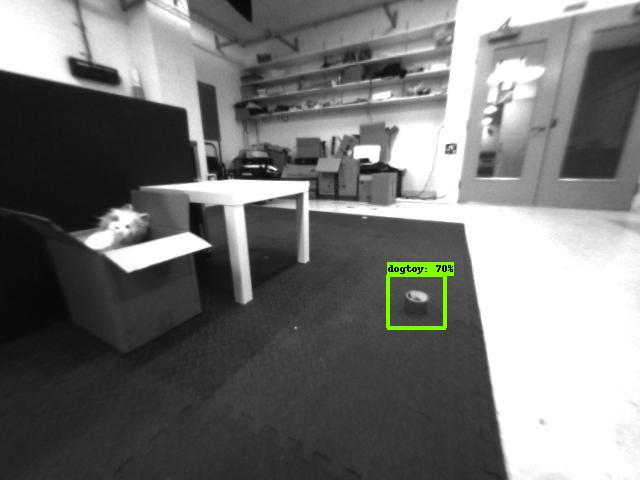dogtoy: (387, 277, 444, 327)
